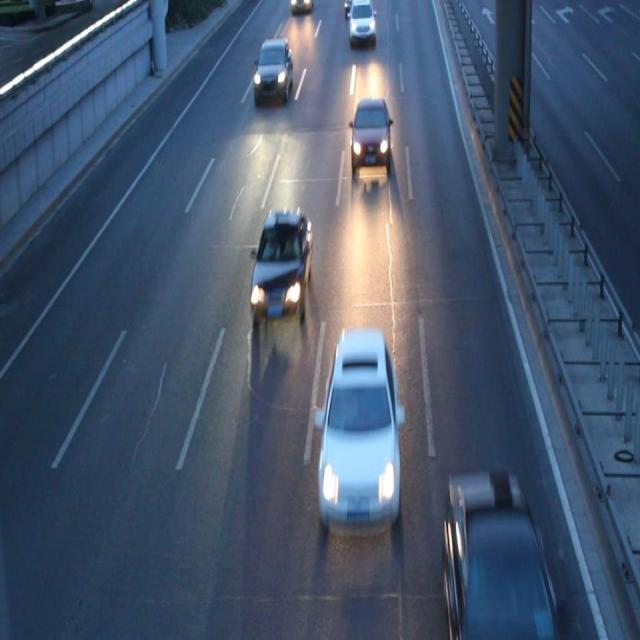car: (441, 475, 558, 640), (314, 329, 404, 537), (249, 209, 311, 321), (349, 98, 392, 172), (253, 38, 292, 102), (349, 1, 375, 42)
